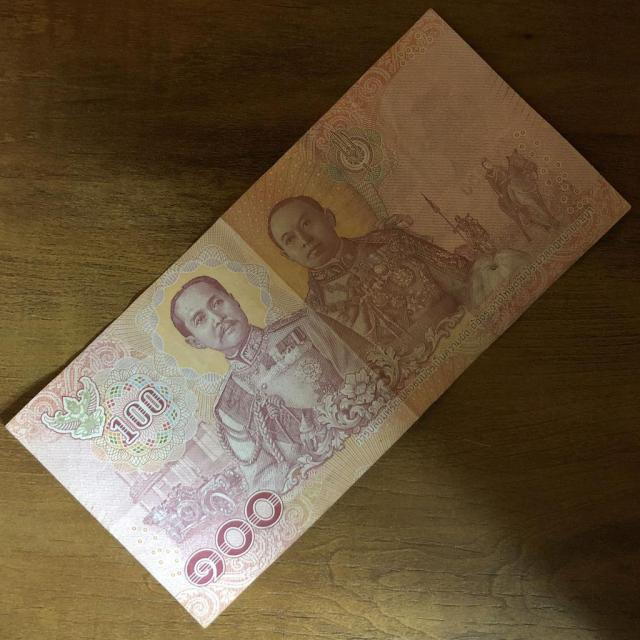THAI100: (8, 12, 629, 626)
